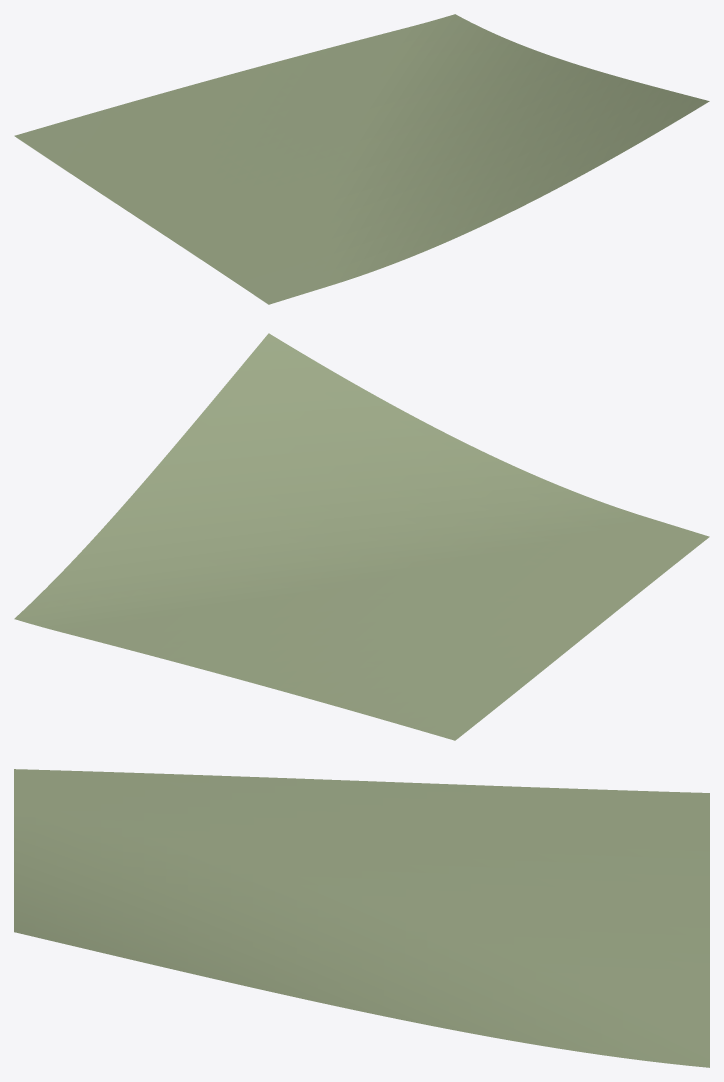
The model's file is expanse-12-3.glb.
The picture shows the model from 3 angles, top to bottom: view 1: azimuth 30°, elevation 25°; view 2: azimuth 150°, elevation 25°; view 3: azimuth 270°, elevation 25°; orthographic projection. The views are drawn at different scales.
Visible parts, largest first — view 1: expanse-12-3; view 2: expanse-12-3; view 3: expanse-12-3.
Boxes of the visible parts, x1,y1,x2,y2 form: expanse-12-3: (14,14,709,304); expanse-12-3: (14,333,709,740); expanse-12-3: (14,769,709,1067).
Bounding box in the file's own units: 256 × 62.92 × 256.
